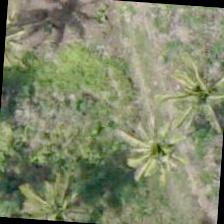Kelapa_Sawit: (94, 96, 190, 192), (151, 46, 223, 143), (10, 170, 104, 222)
